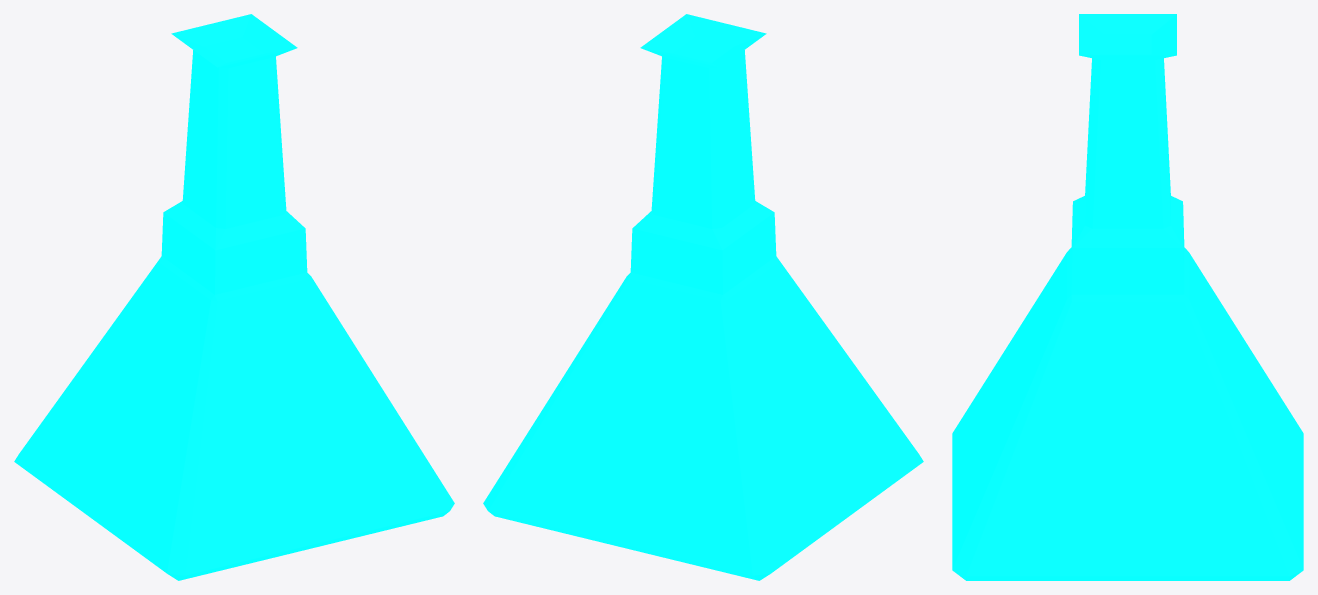
Rendered from Mana Pot.fbx.
3 views of the same model, side by side, from view 1: azimuth 30°, elevation 25°; view 2: azimuth 150°, elevation 25°; view 3: azimuth 270°, elevation 25° (orthographic). The views are drawn at different scales.
Parts seen in each view (by area): view 1: Sta Pot; view 2: Sta Pot; view 3: Sta Pot.
Part boxes in pixels (x1,y1,x2,y2): Sta Pot: [14, 14, 454, 580]; Sta Pot: [483, 14, 923, 580]; Sta Pot: [952, 14, 1303, 580].
Size of the model in its own units: 11.9 by 17.85 by 11.9.
